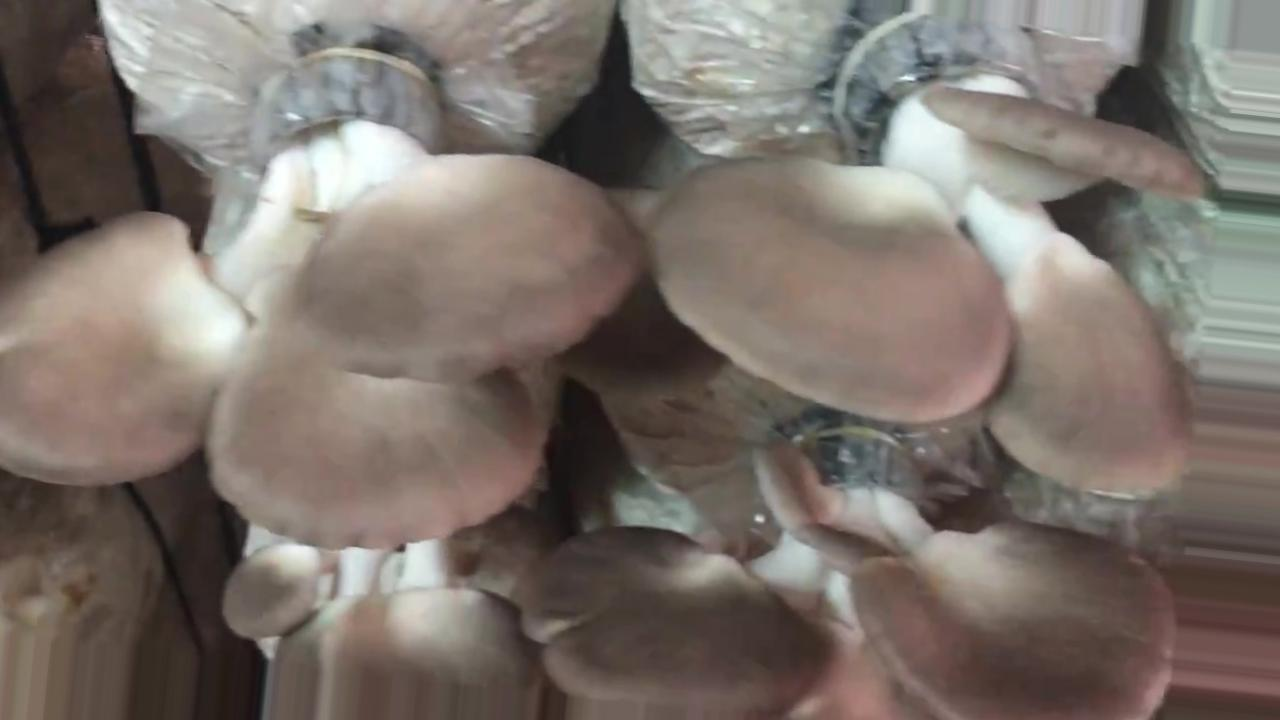nam: (1, 53, 642, 544), (646, 1, 1207, 498), (511, 434, 1175, 720), (222, 524, 543, 720)
